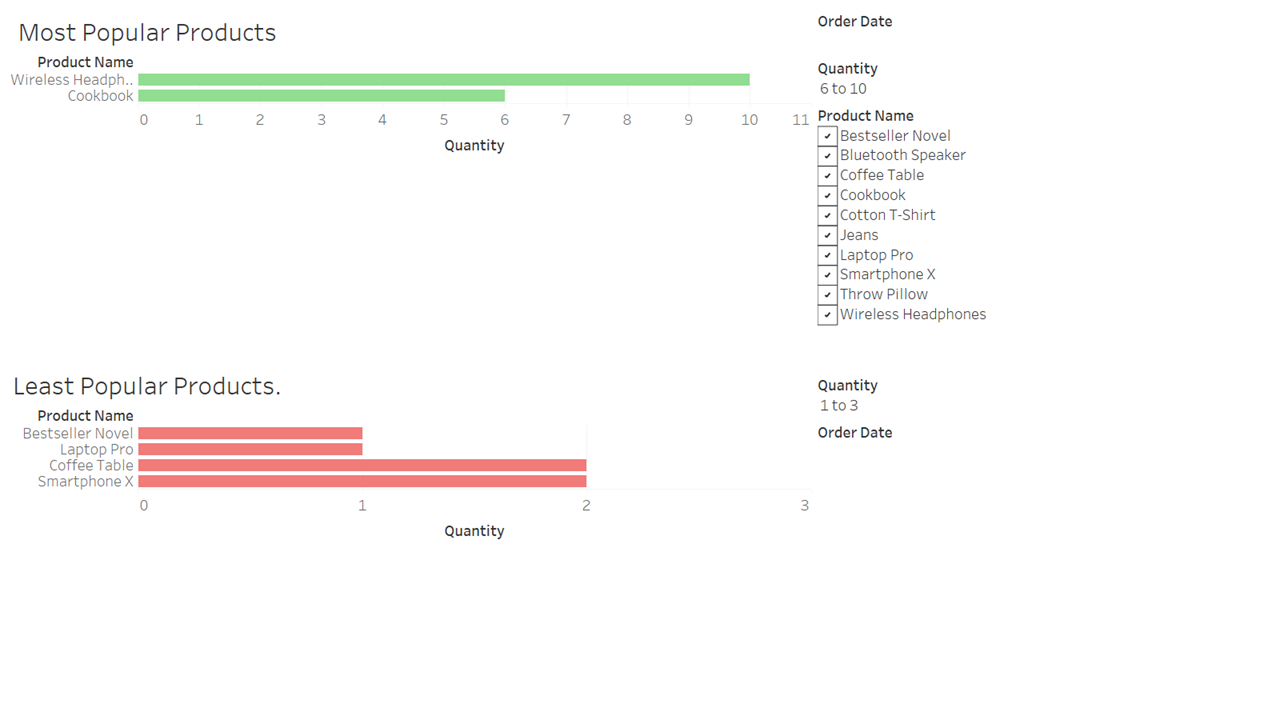

What the dashboard file says about the page in this screenshot:
{"tool":"tableau","page":{"name":"Sales and popularity ","canvas":[1100,800],"ordinal":1},"visuals":[{"type":"worksheet","title":" Most Popular Products","mark":"Automatic","rows":["Name"],"cols":["Quantity"],"box":[8,8,510,784]},{"type":"filter","title":" Most Popular Products","param":"[federated.1c4z79i09ftmc716wc0p51rtjv8i].[none:OrderDate:qk]","box":[518,8,574,51]},{"type":"filter","title":" Most Popular Products","param":"[federated.1c4z79i09ftmc716wc0p51rtjv8i].[sum:Quantity:qk]","box":[518,59,574,51]},{"type":"worksheet","title":"Least Popular Products.","mark":"Automatic","rows":["Name"],"cols":["Quantity"],"box":[518,110,574,308]},{"type":"filter","title":"Least Popular Products.","param":"[federated.1c4z79i09ftmc716wc0p51rtjv8i].[none:ProductName:nk]","box":[518,418,574,26]},{"type":"filter","title":"Least Popular Products.","param":"[federated.1c4z79i09ftmc716wc0p51rtjv8i].[sum:Quantity:qk]","box":[518,444,574,26]},{"type":"filter","title":"Least Popular Products.","param":"[federated.1c4z79i09ftmc716wc0p51rtjv8i].[none:OrderDate:qk]","box":[518,470,574,26]}]}

Visuals, with their boxes on the page's 1100x800 design canvas (x1, y1, x2, y2). These are canvas units, not pixel positions in the 1280x720 screenshot, which may show the page scaled, cropped or inside an application window:
" Most Popular Products" worksheet: locate(8, 8, 518, 792)
" Most Popular Products" filter: locate(518, 8, 1092, 59)
" Most Popular Products" filter: locate(518, 59, 1092, 110)
"Least Popular Products." worksheet: locate(518, 110, 1092, 418)
"Least Popular Products." filter: locate(518, 418, 1092, 444)
"Least Popular Products." filter: locate(518, 444, 1092, 470)
"Least Popular Products." filter: locate(518, 470, 1092, 496)
